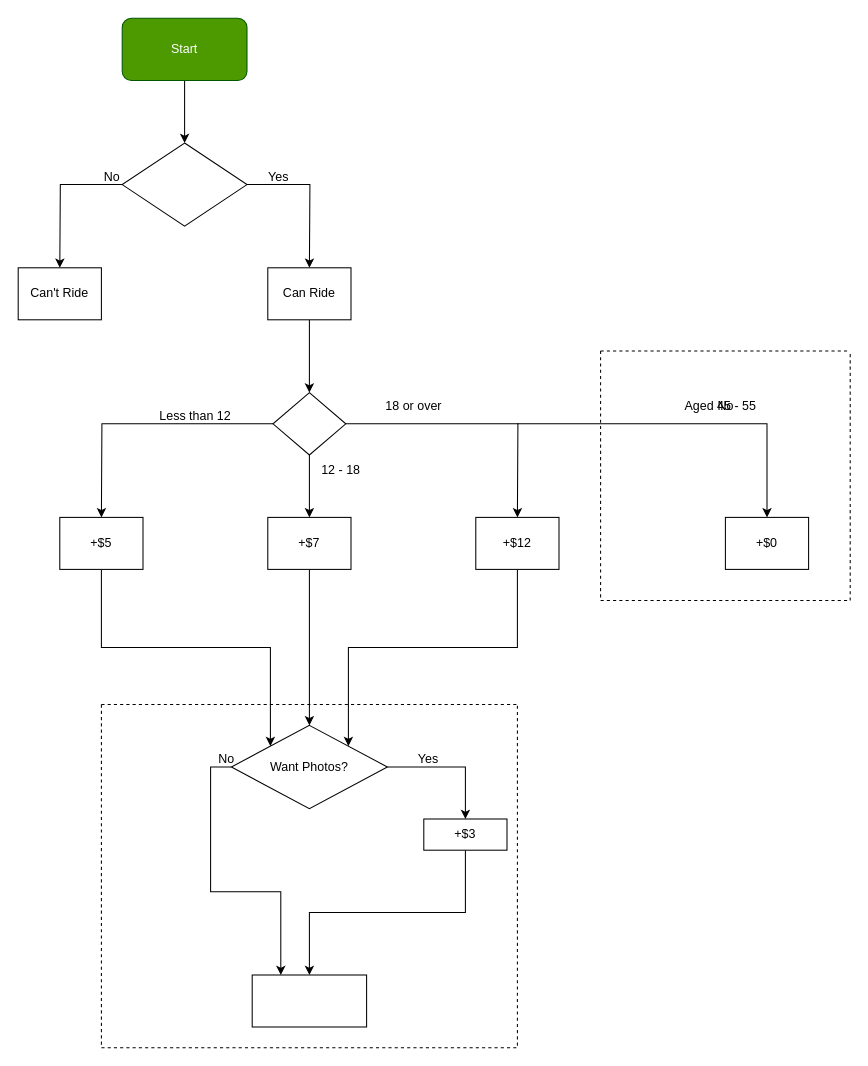
Image size: 868x1066. Some labels were removed from this diagram. Here are the shapes that lost their labels. From the top down, the box of each, then its label:
(121, 142, 247, 226): Height > 120 cm
(272, 392, 346, 455): Age
(251, 974, 367, 1027): The Total bill is $x
